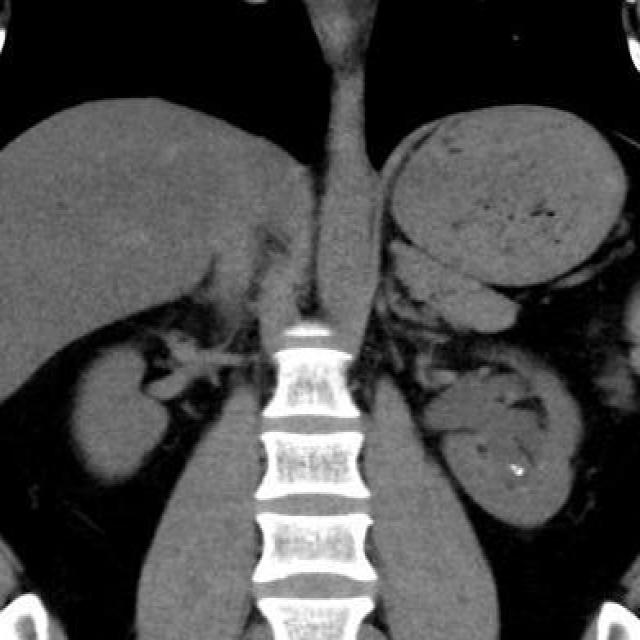Tas_Var: (516, 466, 524, 478), (510, 461, 516, 471)
